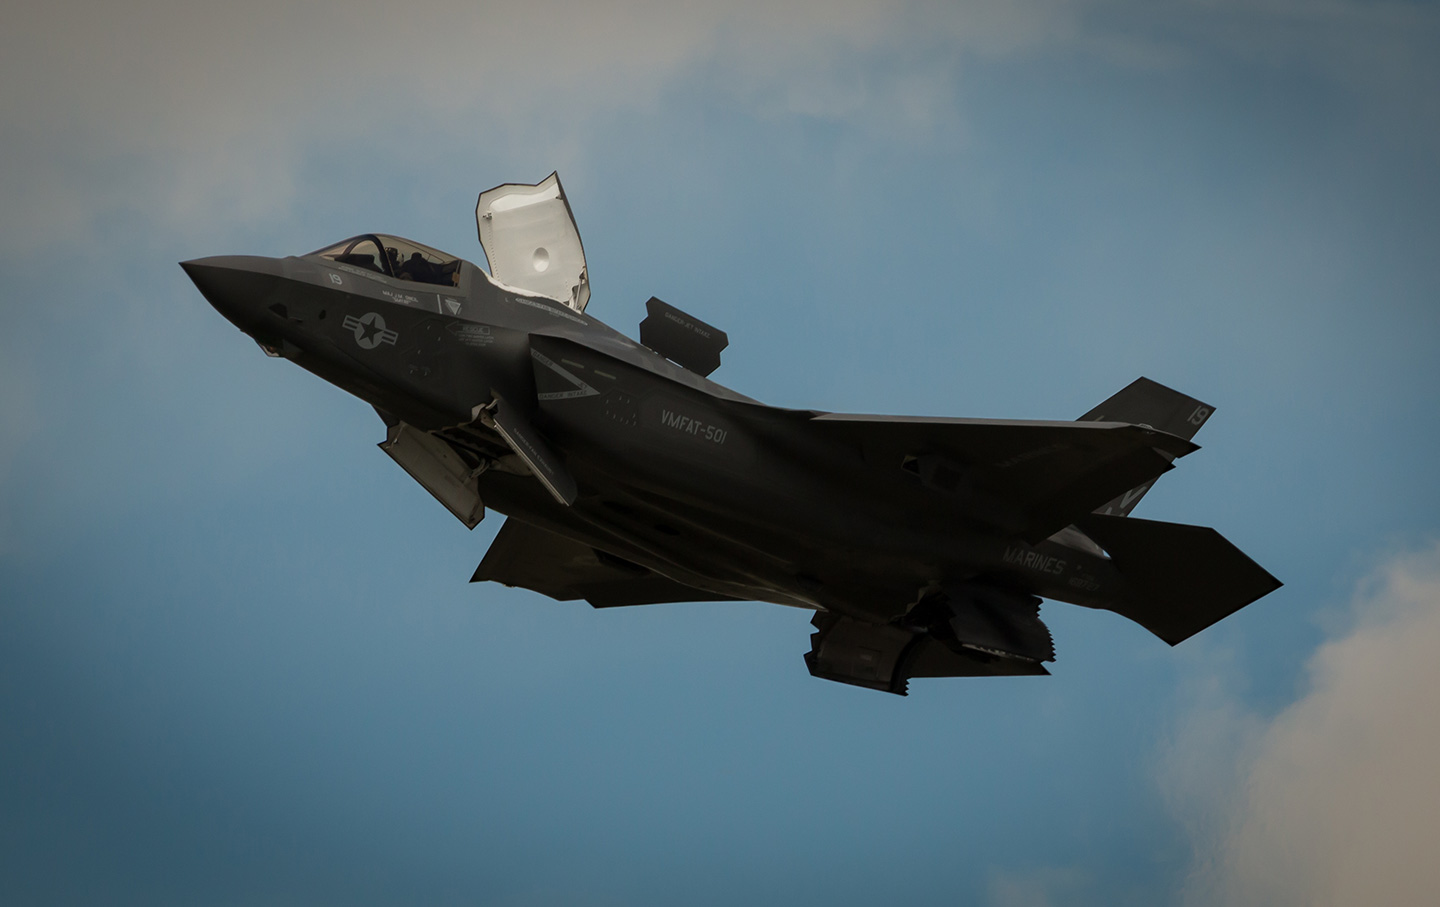F-35 Lightning: (142, 126, 1315, 736)
